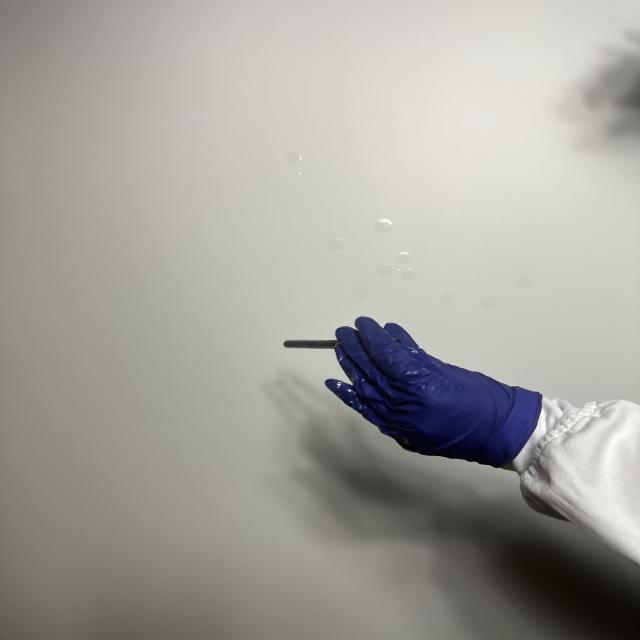gloves_contaminated: (326, 317, 542, 467)
